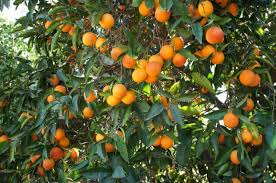orange: (227, 66, 252, 87), (221, 111, 239, 132), (48, 144, 65, 162), (146, 61, 164, 77), (155, 8, 174, 23), (112, 83, 129, 99), (82, 31, 98, 47), (101, 12, 117, 28), (207, 27, 224, 42), (159, 45, 175, 60), (200, 44, 216, 59), (81, 106, 96, 121), (121, 54, 137, 68), (96, 38, 113, 51), (198, 2, 213, 16), (230, 149, 243, 165), (161, 136, 175, 150), (212, 51, 226, 65), (132, 70, 146, 82), (54, 127, 67, 139), (251, 75, 261, 88), (111, 48, 122, 59)
